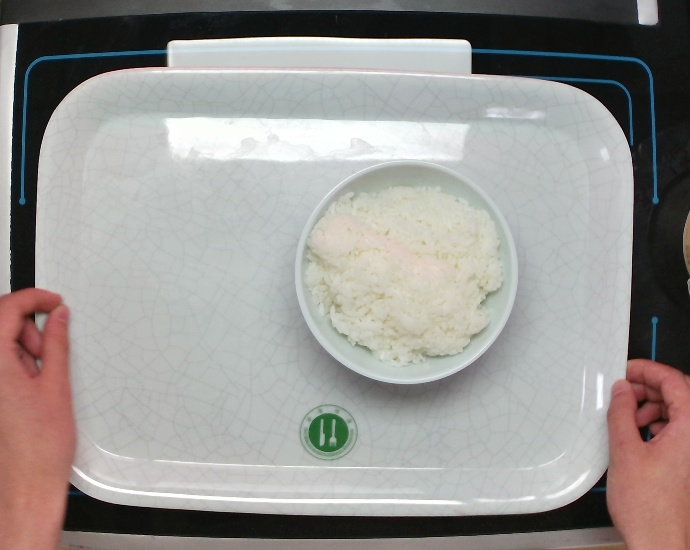JYsf-Fan_Wan: (292, 157, 520, 387)
